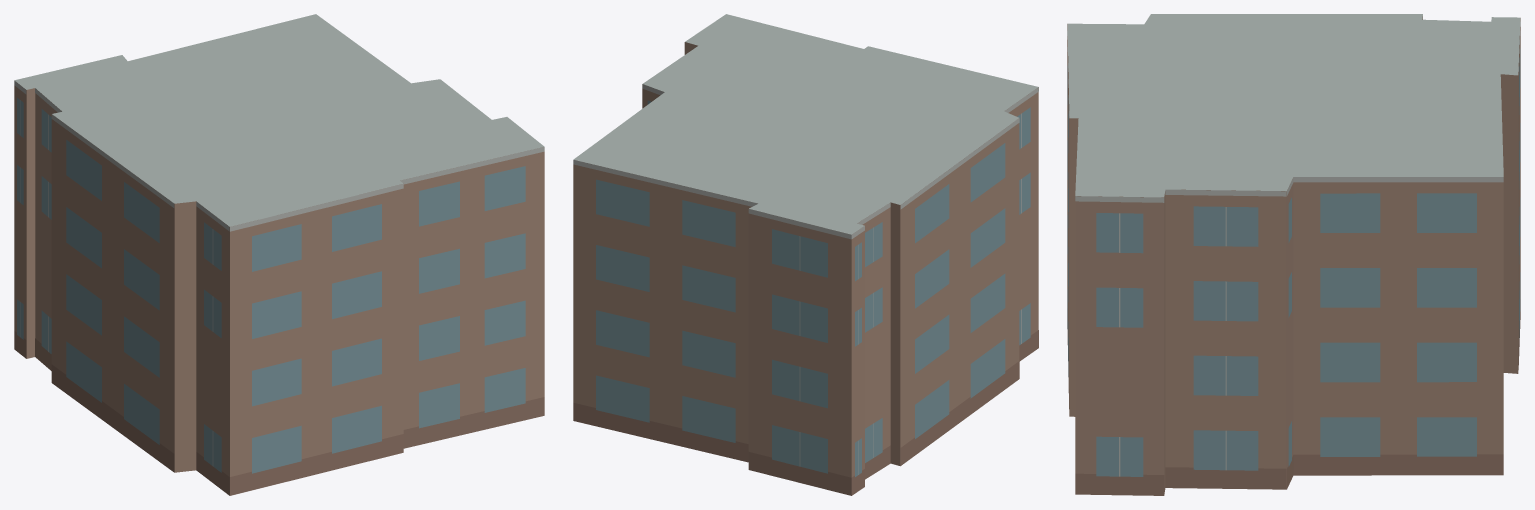
File: survey-upis-32782300.glb
The picture shows the model from 3 angles, left to right: view 1: azimuth 30°, elevation 25°; view 2: azimuth 150°, elevation 25°; view 3: azimuth 270°, elevation 25°; orthographic projection. The views are drawn at different scales.
Visible parts, largest first — view 1: survey-upis-32782300.tmp; view 2: survey-upis-32782300.tmp; view 3: survey-upis-32782300.tmp.
Boxes of the visible parts, x1=… form: survey-upis-32782300.tmp: x1=14, y1=14, x2=544, y2=495; survey-upis-32782300.tmp: x1=573, y1=14, x2=1038, y2=495; survey-upis-32782300.tmp: x1=1067, y1=14, x2=1520, y2=495.
Bounding box in the file's own units: 17.81 × 13.5 × 18.58.
